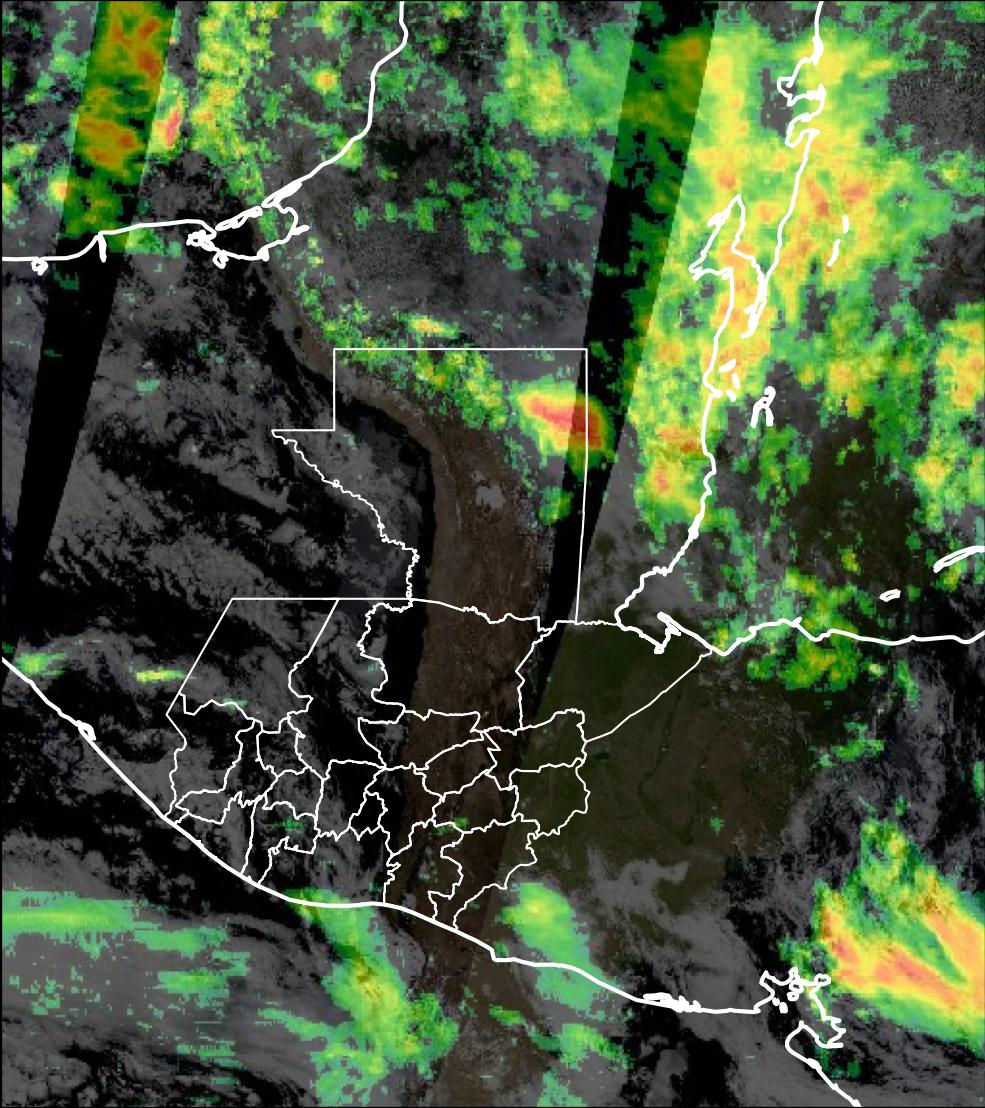precipitacion: (817, 864, 985, 1042), (74, 14, 177, 156), (518, 379, 617, 476)
